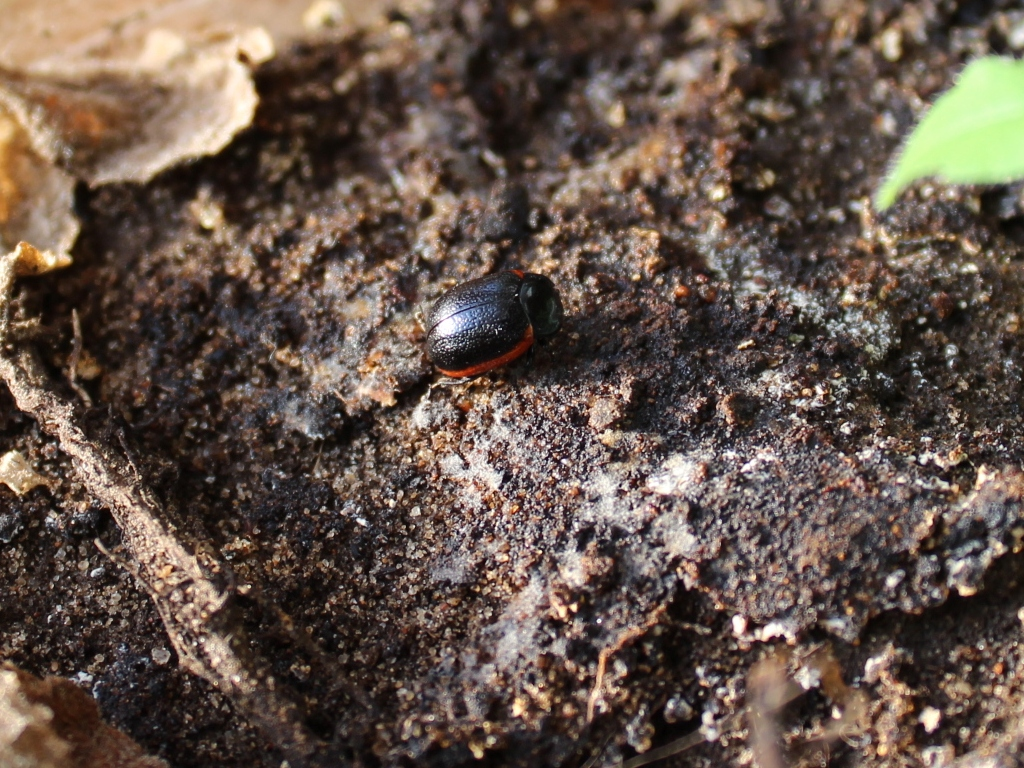Chrysolina_gypsophila: (419, 268, 570, 392)
